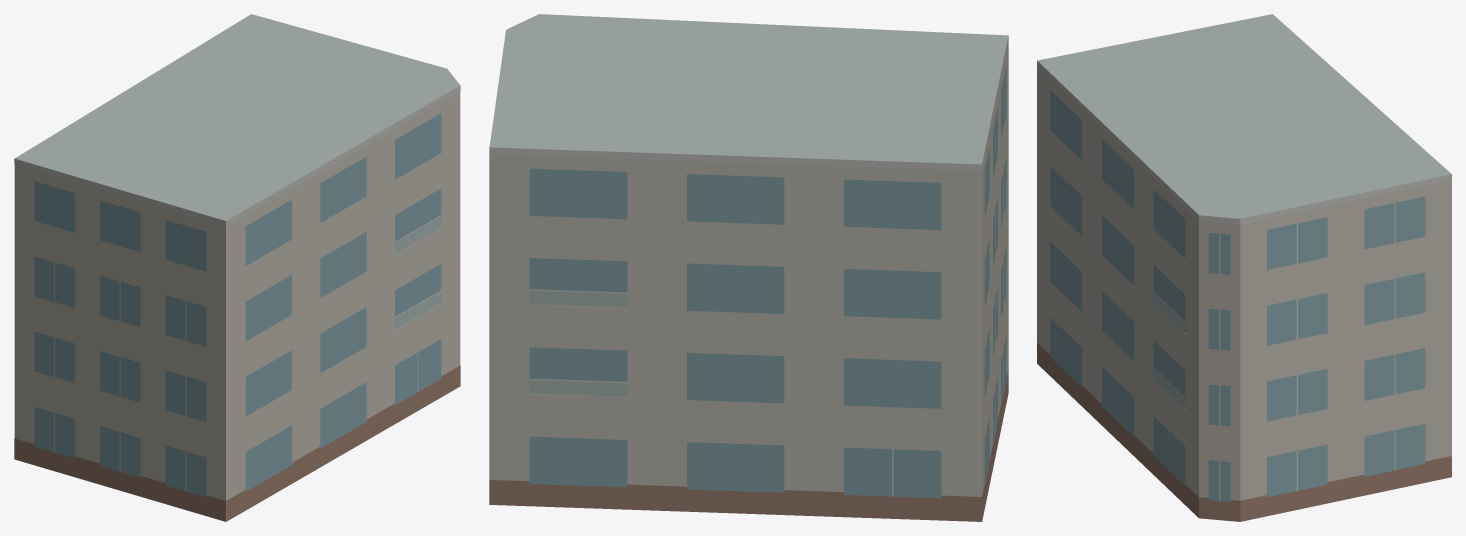
Rendered from survey-upis-32730268.glb.
The picture shows the model from 3 angles, left to right: view 1: azimuth 30°, elevation 25°; view 2: azimuth 150°, elevation 25°; view 3: azimuth 270°, elevation 25°; orthographic projection. The views are drawn at different scales.
Parts seen in each view (by area): view 1: survey-upis-32730268.tmp; view 2: survey-upis-32730268.tmp; view 3: survey-upis-32730268.tmp.
Boxes of the visible parts, <box> form: survey-upis-32730268.tmp: <box>14,14,460,521</box>; survey-upis-32730268.tmp: <box>489,14,1008,521</box>; survey-upis-32730268.tmp: <box>1037,14,1451,521</box>.
Size of the model in its own units: 19 by 13.1 by 16.26.
